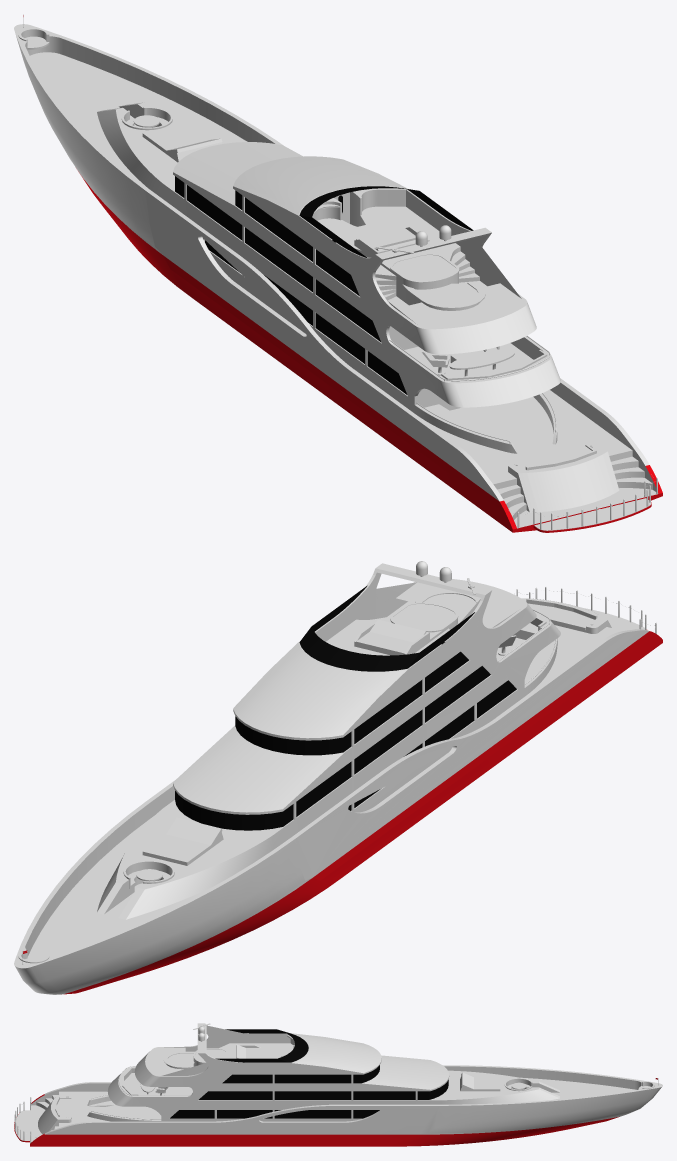
The model's file is dolphin.fbx.
3 renders of one model, top to bottom at view 1: azimuth 30°, elevation 25°; view 2: azimuth 150°, elevation 25°; view 3: azimuth 270°, elevation 25°, orthographic. The views are drawn at different scales.
Visible parts, largest first — view 1: dolphin, dolphin.003; view 2: dolphin; view 3: dolphin, dolphin.003.
Boxes of the visible parts, <box> form: dolphin: <box>14,14,662,532</box>; dolphin.003: <box>389,335,556,443</box>; dolphin: <box>14,561,662,994</box>; dolphin: <box>14,1023,662,1146</box>; dolphin.003: <box>91,1066,190,1119</box>.
Size of the model in its own units: 9.29 by 11.29 by 62.48.
